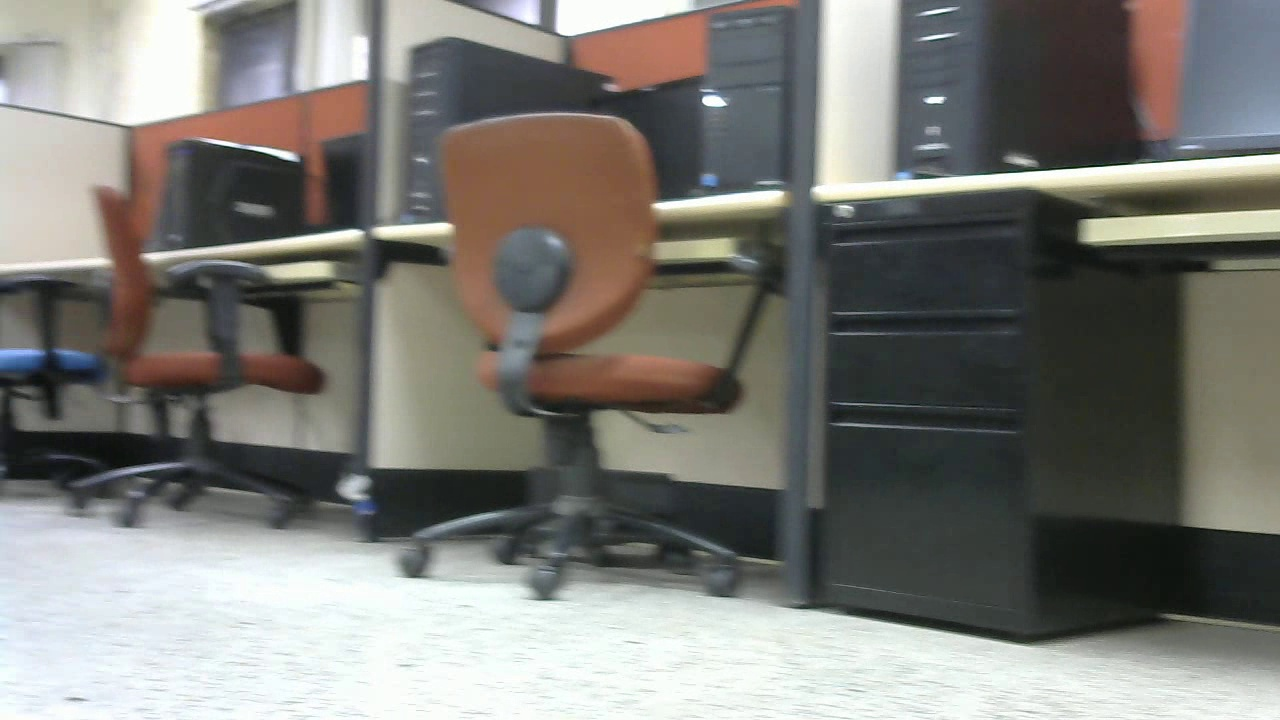chair: (388, 125, 774, 597), (76, 182, 332, 535)
